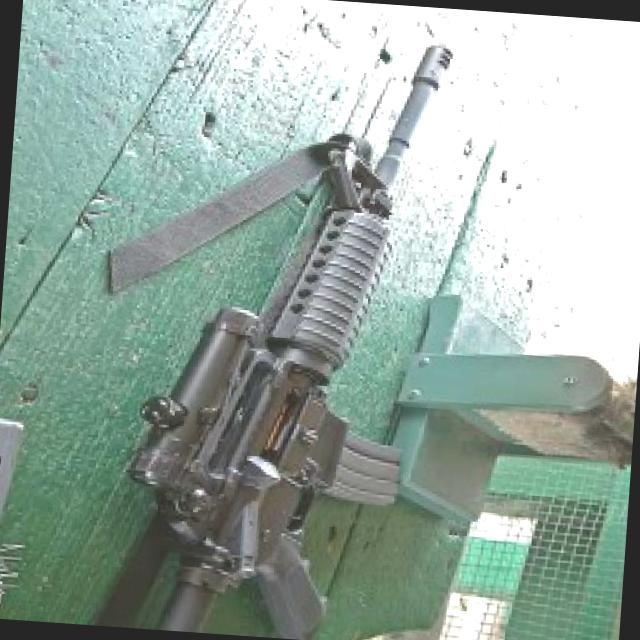long weapon: (140, 4, 459, 639)
